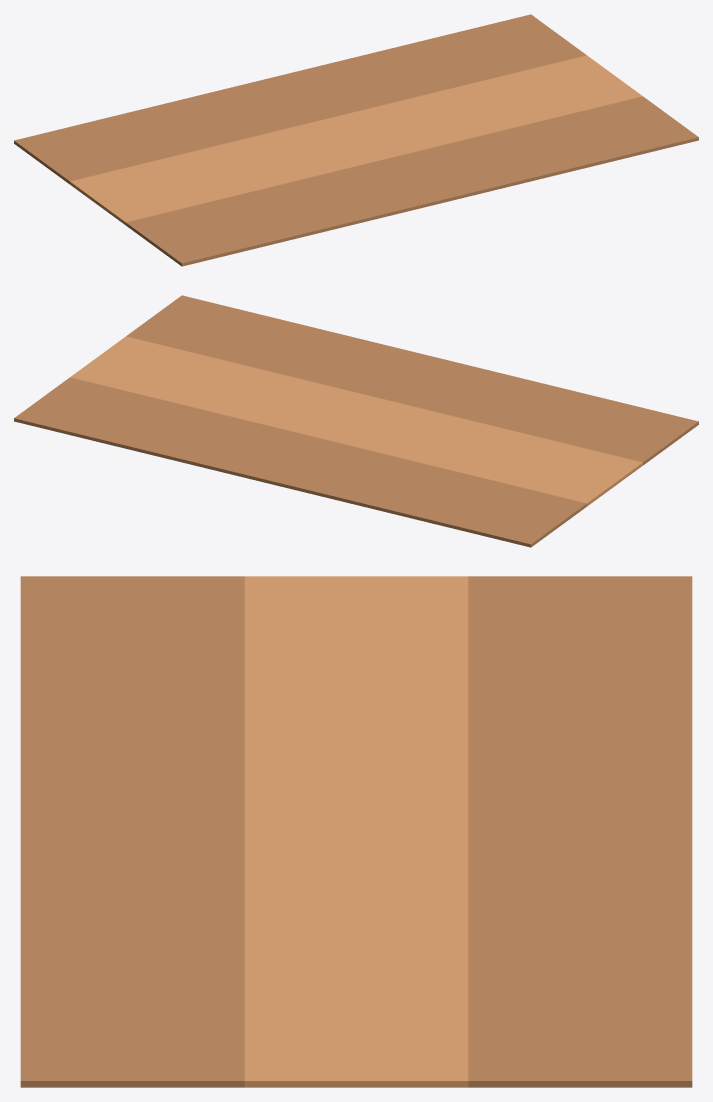
Rendered from pleister.fbx.
The picture shows the model from 3 angles, top to bottom: view 1: azimuth 30°, elevation 25°; view 2: azimuth 150°, elevation 25°; view 3: azimuth 270°, elevation 25°; orthographic projection. The views are drawn at different scales.
Parts seen in each view (by area): view 1: pleister; view 2: pleister; view 3: pleister.
Boxes of the visible parts, bbox=[...] form: pleister: bbox=[14, 14, 698, 266]; pleister: bbox=[14, 295, 698, 547]; pleister: bbox=[20, 576, 692, 1087].
Size of the model in its own units: 42.55 by 0.2518 by 23.94.
